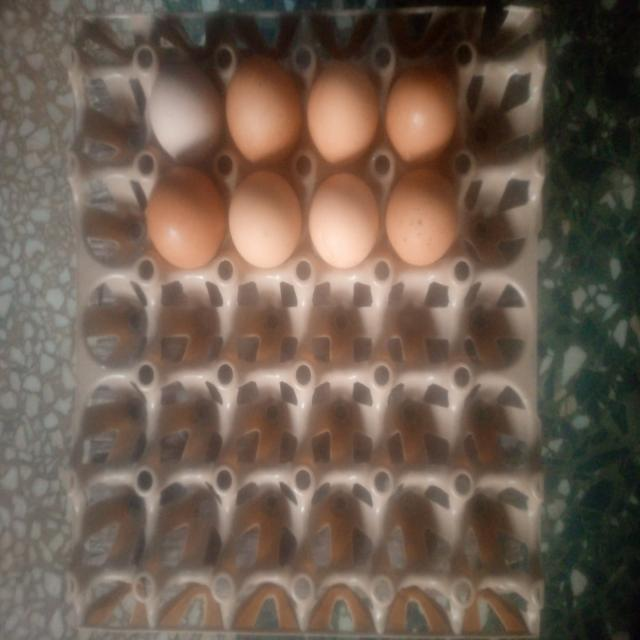Eggs: (143, 164, 224, 272), (230, 56, 304, 164), (308, 56, 379, 168), (228, 171, 302, 272), (386, 174, 461, 269), (144, 59, 222, 150), (388, 66, 460, 161), (310, 176, 380, 264)
